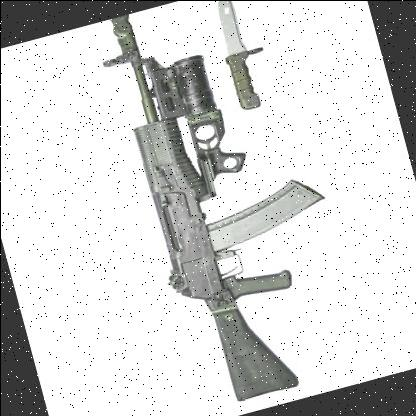rifle: (82, 0, 367, 416)
